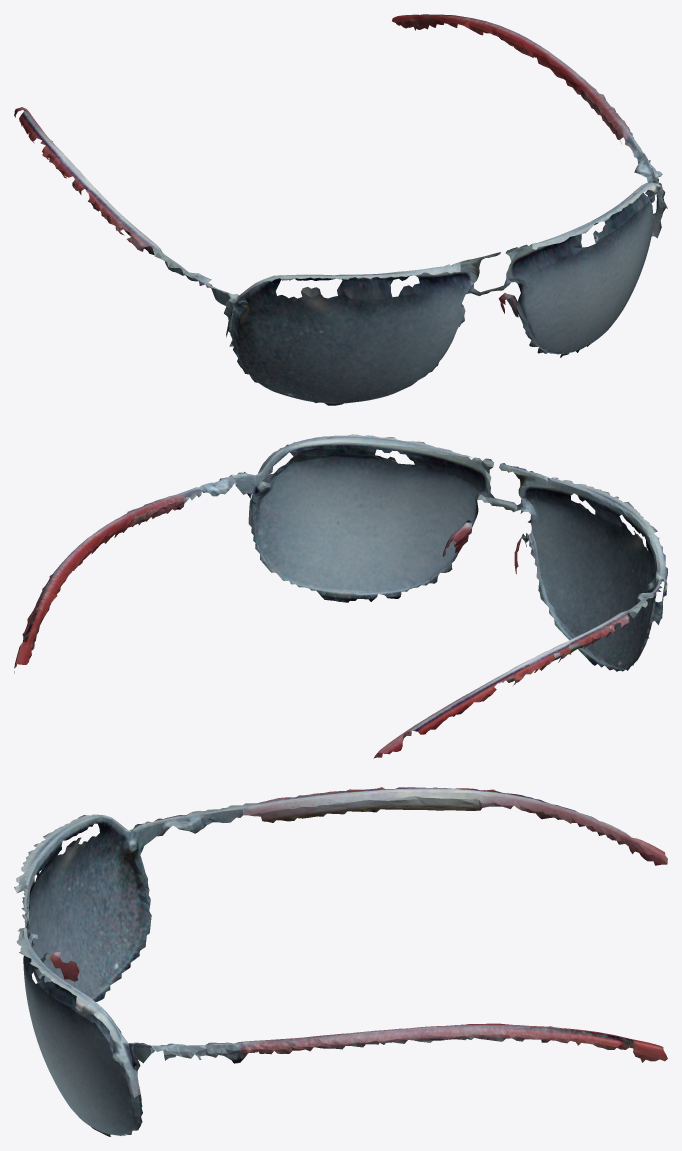
Rendered from scan_align.obj.
The picture shows the model from 3 angles, top to bottom: view 1: azimuth 30°, elevation 25°; view 2: azimuth 150°, elevation 25°; view 3: azimuth 270°, elevation 25°; orthographic projection. The views are drawn at different scales.
Size of the model in its own units: 0.1495 by 0.0442 by 0.1615.
Materials: 1 (1 with a texture image).
